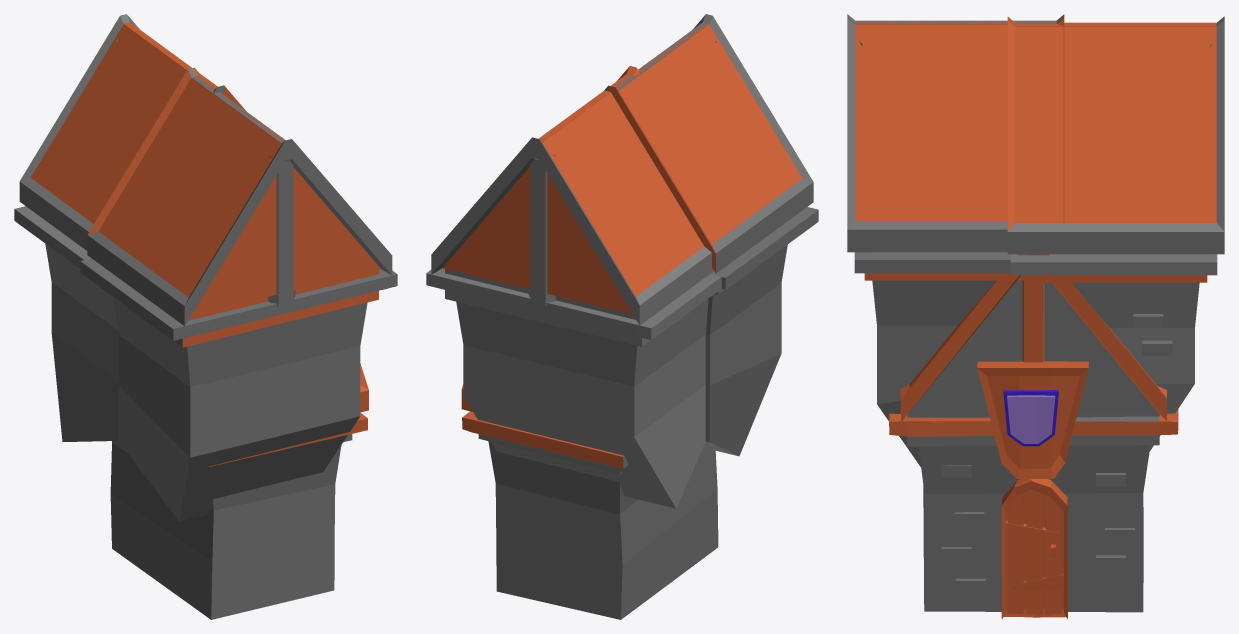
File: armor.fbx
3 renders of one model, left to right at view 1: azimuth 30°, elevation 25°; view 2: azimuth 150°, elevation 25°; view 3: azimuth 270°, elevation 25°, orthographic. The views are drawn at different scales.
Parts seen in each view (by area): view 1: Cube.018; view 2: Cube.018; view 3: Cube.018.
Boxes of the visible parts, x1,y1,x2,y2 form: Cube.018: (14,14,397,619); Cube.018: (426,14,818,619); Cube.018: (847,14,1224,619).
Size of the model in its own units: 997 by 2068 by 1278.
